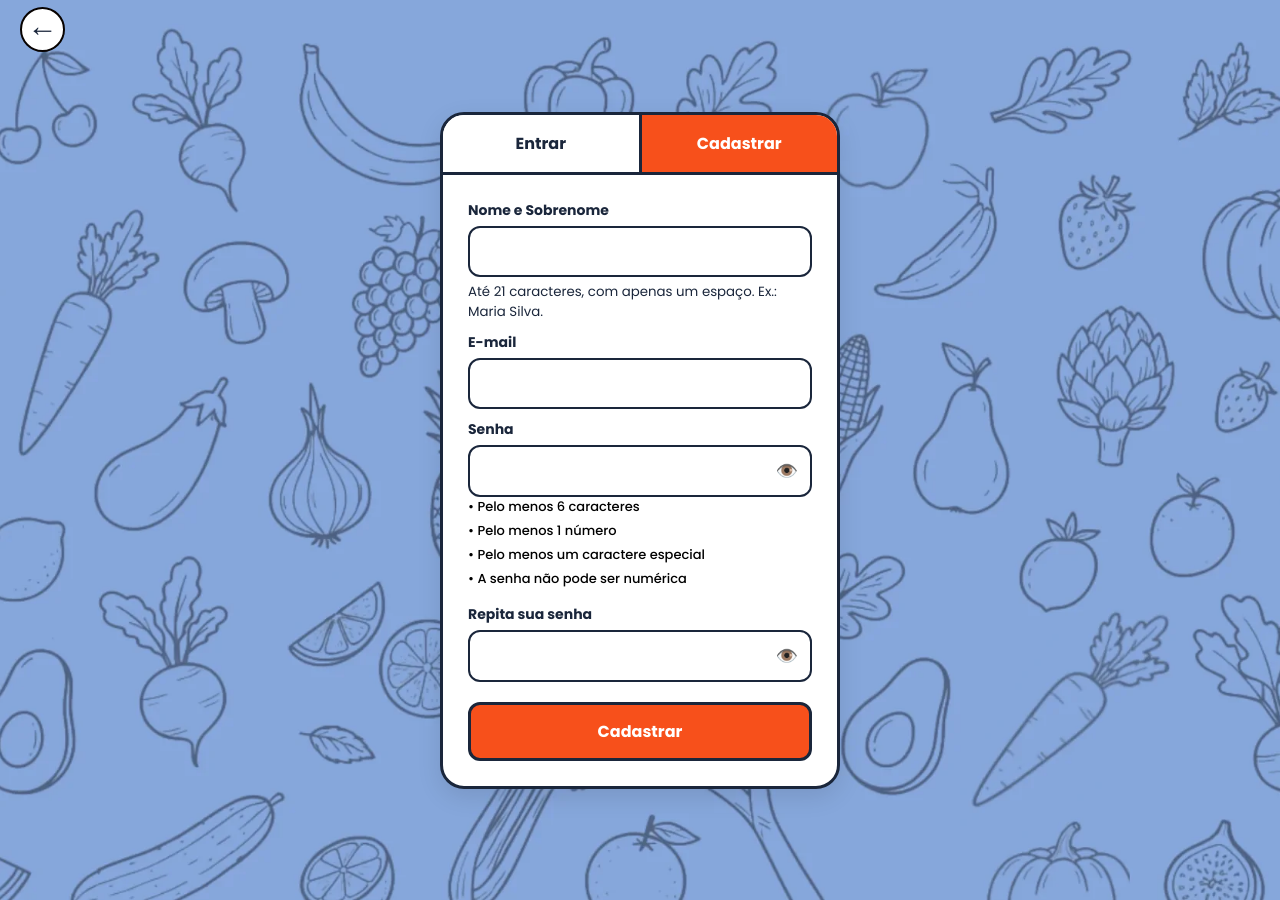
Test: formulário real, com rede simulada › sair da página descarta a tentativa, sem gravá-la no armazenamento do navegador
This screenshot has width=1280, height=900.
Type "Teste Local" into the field labelled "Nome e Sobrenome" at (640, 251), box x1=468 y1=226 x2=812 y2=276
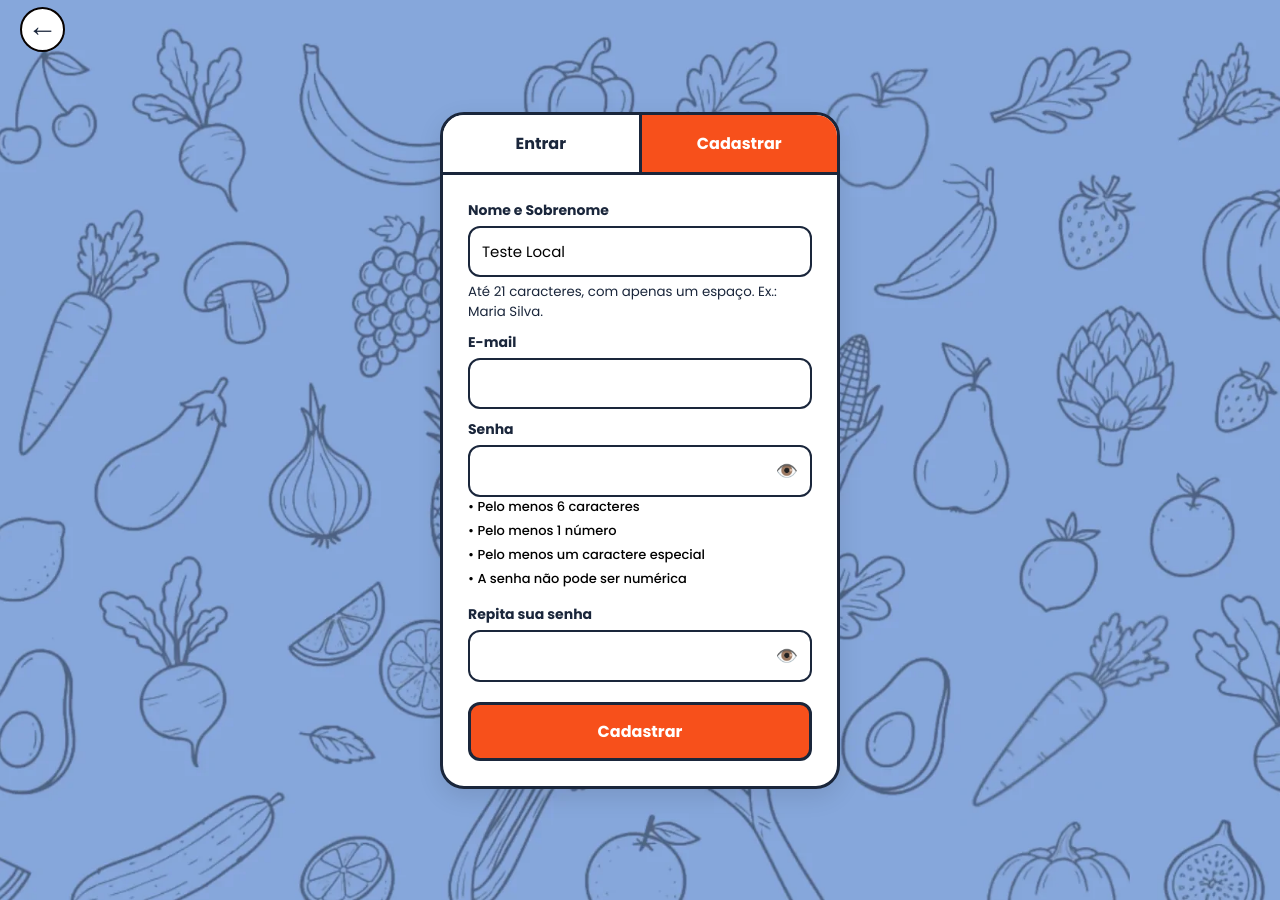
Type "teste@example.com" into the field labelled "E-mail" at (640, 383), box x1=468 y1=358 x2=812 y2=408
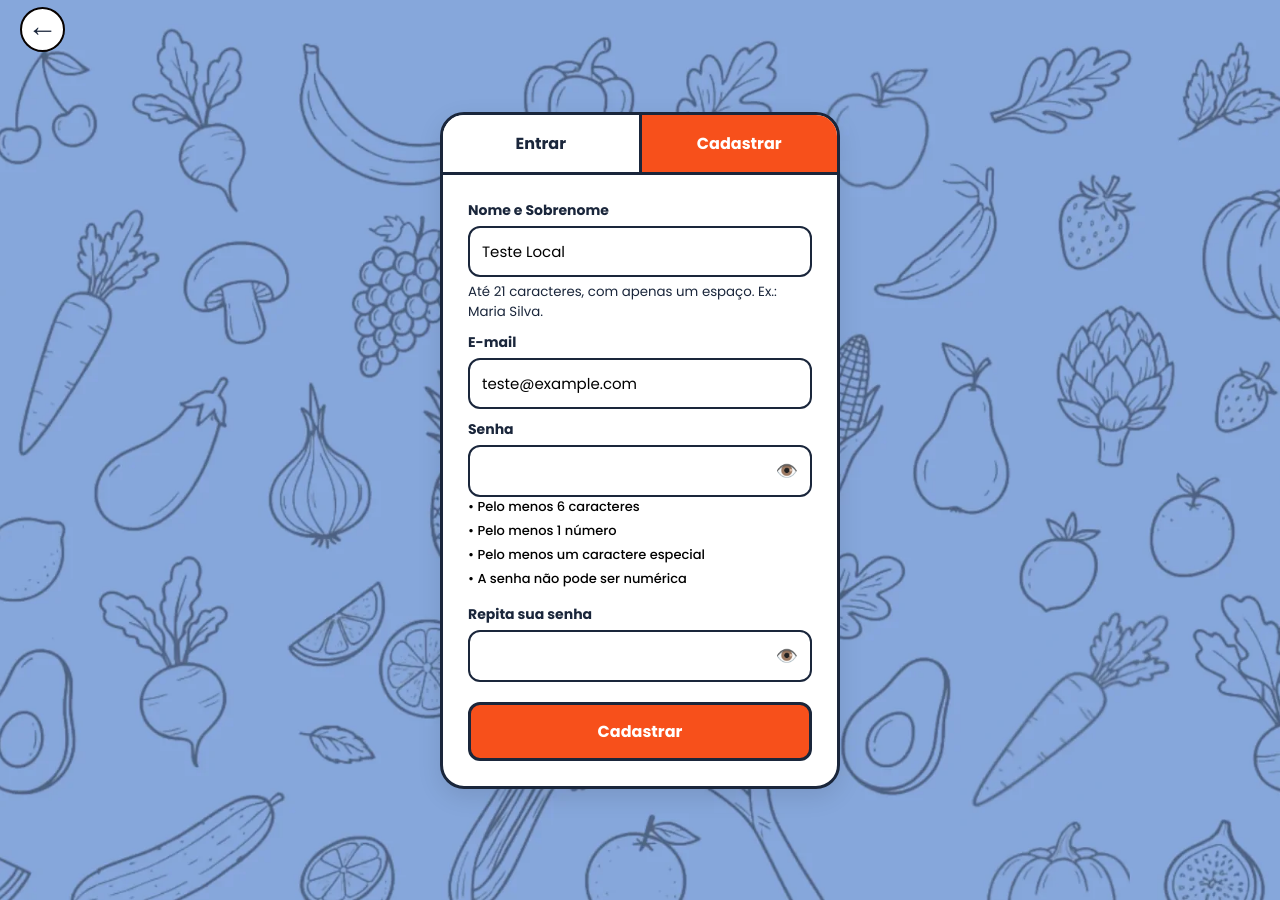
Type "Teste123!" into the password field labelled "Senha" at (640, 470), box x1=470 y1=446 x2=810 y2=494
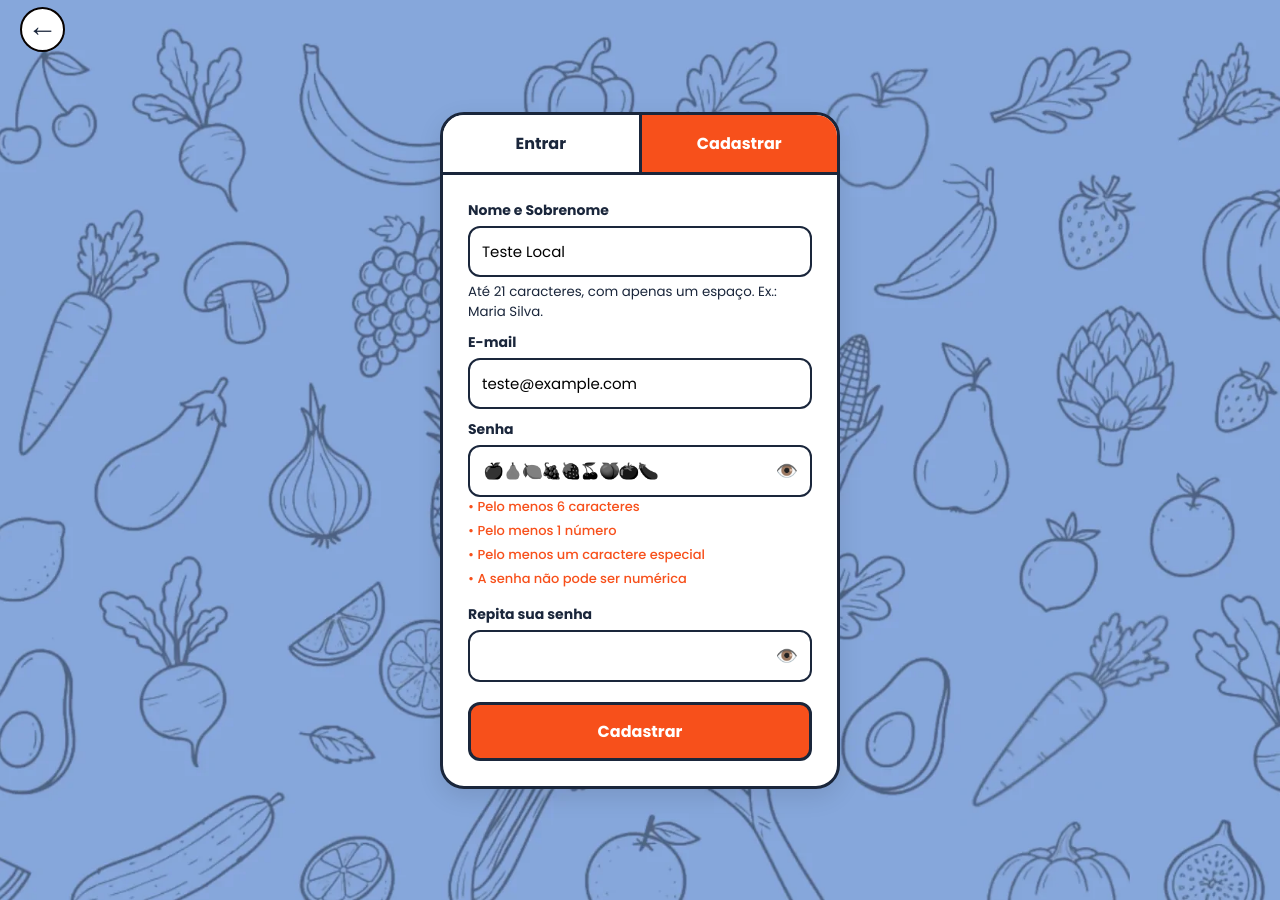
Type "Teste123!" into the password field labelled "Repita sua senha" at (640, 656), box x1=470 y1=632 x2=810 y2=680
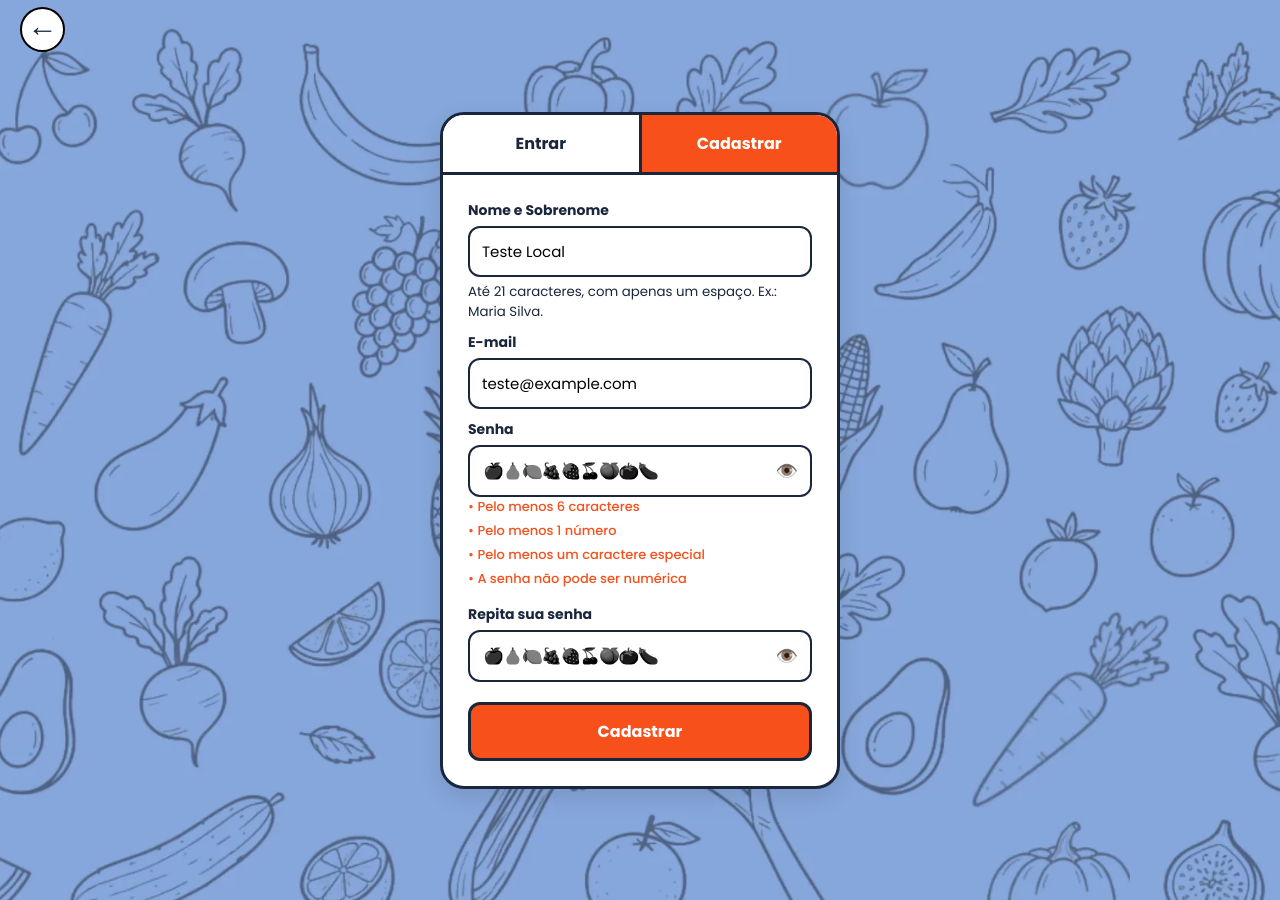
Submit the form named "E-mail", box x1=443 y1=174 x2=837 y2=786
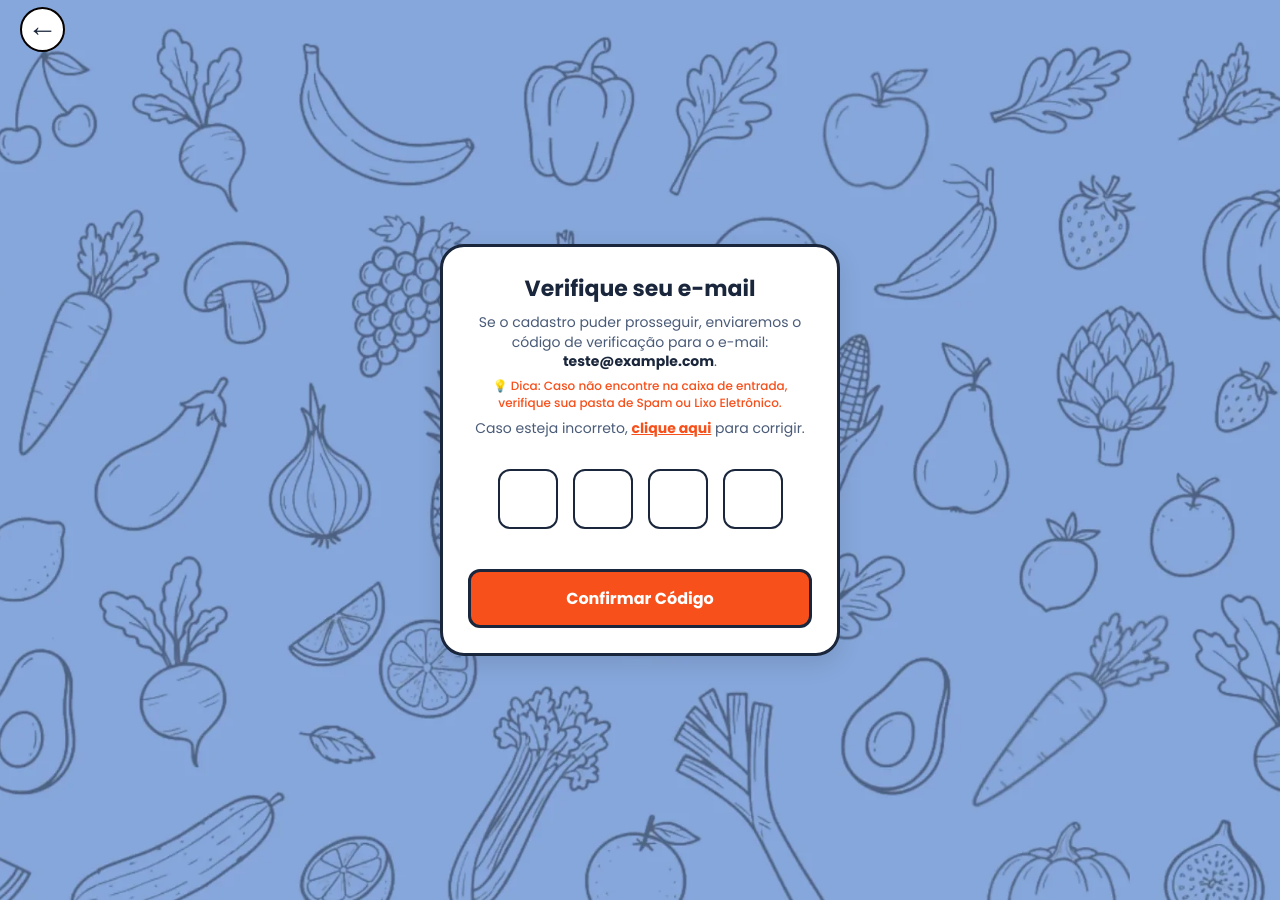
Result: the heading "Verifique seu e-mail" is shown at x1=525 y1=273 x2=755 y2=304
